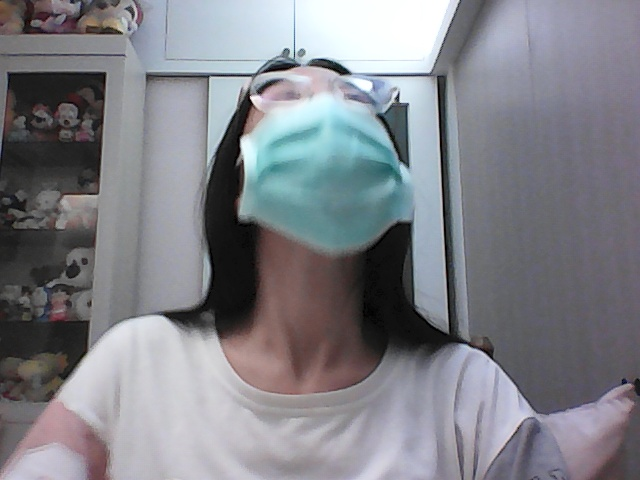Mask: (231, 110, 423, 264)
